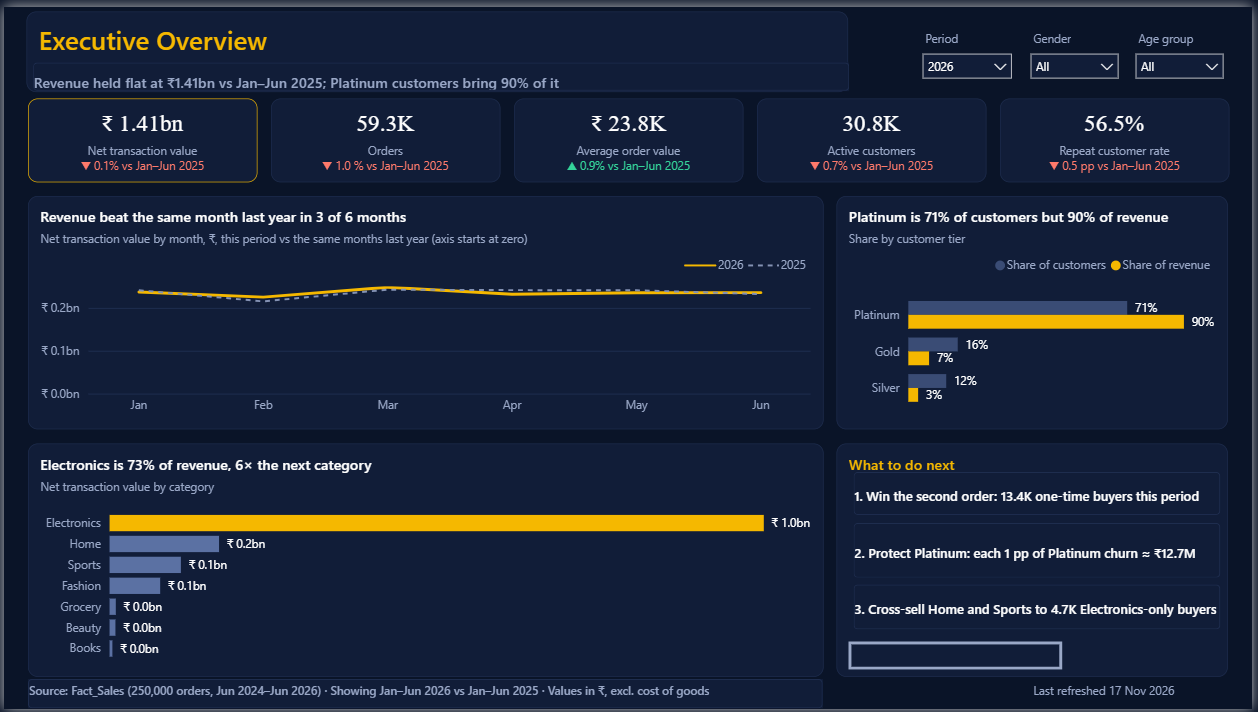

The dashboard page shown, as its layout file describes it:
{"tool":"powerbi","page":{"name":"Executive Overview","canvas":[1280,720],"ordinal":0},"visuals":[{"type":"slicer","fields":{"Values":["Dim_Date.Date.Variation.Date Hierarchy.Year","Dim_Date.Date.Variation.Date Hierarchy.Quarter","Dim_Date.Date.Variation.Date Hierarchy.Month","Dim_Date.Date.Variation.Date Hierarchy.Day"]},"box":[738.9,3,169.6,65.1],"z":0},{"type":"slicer","fields":{"Values":["Dim_Customers.gender"]},"box":[922.2,3,171.1,65.1],"z":1000},{"type":"slicer","fields":{"Values":["Dim_Customers.age_group"]},"box":[1096.3,3,160.5,65.1],"z":2000},{"type":"cardVisual","fields":{"Data":["_Measure.Net Transaction Value","_Measure.Total Orders","_Measure.Average Order Value","_Measure.Units Sold","_Measure.Total Customers"]},"box":[6.1,72.7,1265,75],"z":3000},{"type":"lineChart","title":"Net Transaction Value Trend","fields":{"Category":["Dim_Date.Year Month"],"Y":["_Measure.Net Transaction Value","_Measure.Previous Year Value"]},"box":[5.6,151.9,614.7,271.9],"z":4000},{"type":"lineChart","title":"Order Volume Trend","fields":{"Category":["Dim_Date.Year Month"],"Y":["_Measure.Total Orders"]},"box":[626.3,152,647.5,272.1],"z":5000},{"type":"clusteredBarChart","title":"Top 5 Categories by Value","fields":{"Category":["Dim_Products.category"],"Y":["_Measure.Net Transaction Value"]},"box":[5.7,428.3,615.9,203.4],"z":6000},{"type":"clusteredBarChart","title":"Customer Tier Performance","fields":{"Category":["Dim_Customers.customer_tier"],"Y":["_Measure.Net Transaction Value"]},"box":[626.4,428.1,647.2,203.5],"z":7000},{"type":"cardVisual","fields":{"Data":["_Measure.Average Order Value","_Measure.Average Units per Order","_Measure.Coupon Discount Rate"]},"box":[5.7,638.8,680.4,74.5],"z":8000},{"type":"cardVisual","fields":{"Data":["_Measure.Average Delivery Days","_Measure.Median Delivery Days","_Measure.MoM Growth %"]},"box":[700.4,638.8,573,74.5],"z":9000},{"type":"textbox","box":[6.2,7.8,589.1,65.6],"z":10000}]}

Visuals, with their boxes in screenshot pixels (x1, y1, x2, y2), scaled from the page's 1280x720 canvas onto the 1258x712 screenshot:
slicer - Dim_Date.Date.Variation.Date Hierarchy.Year x Dim_Date.Date.Variation.Date Hierarchy.Quarter: 726 3 893 67
slicer - Dim_Customers.gender: 906 3 1075 67
slicer - Dim_Customers.age_group: 1077 3 1235 67
cardVisual - _Measure.Net Transaction Value x _Measure.Total Orders: 6 72 1249 146
"Net Transaction Value Trend" lineChart: 6 150 610 419
"Order Volume Trend" lineChart: 616 150 1252 419
"Top 5 Categories by Value" clusteredBarChart: 6 424 611 625
"Customer Tier Performance" clusteredBarChart: 616 423 1252 625
cardVisual - _Measure.Average Order Value x _Measure.Average Units per Order: 6 632 674 705
cardVisual - _Measure.Average Delivery Days x _Measure.Median Delivery Days: 688 632 1252 705
textbox: 6 8 585 73
